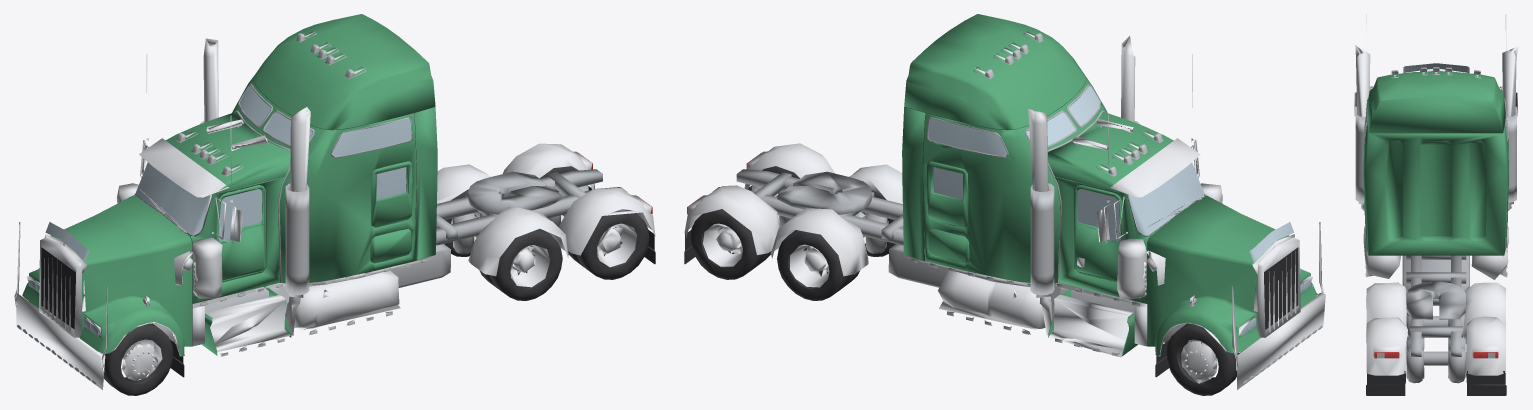
The model's file is archmodels55-16.glb.
3 renders of one model, left to right at view 1: azimuth 30°, elevation 25°; view 2: azimuth 150°, elevation 25°; view 3: azimuth 270°, elevation 25°, orthographic. The views are drawn at different scales.
Visible parts, largest first — view 1: Archmodels55_16_carpaint, Archmodels55_16_chrome, Archmodels55_16_frame, Archmodels55_16_tires, Archmodels55_16_glass, Archmodels55_16_glass2, Archmodels55_16_black, Archmodels55_16_exhaust_shield, Archmodels55_16_orange_light, Archmodels55_16_tinted_glass; view 2: Archmodels55_16_carpaint, Archmodels55_16_chrome, Archmodels55_16_frame, Archmodels55_16_tires, Archmodels55_16_glass, Archmodels55_16_glass2, Archmodels55_16_black, Archmodels55_16_exhaust_shield, Archmodels55_16_orange_light, Archmodels55_16_tinted_glass; view 3: Archmodels55_16_carpaint, Archmodels55_16_chrome, Archmodels55_16_frame, Archmodels55_16_black, Archmodels55_16_exhaust_shield, Archmodels55_16_tinted_glass, Archmodels55_16_taillights_red, Archmodels55_16_orange_light.
Part boxes in pixels (<box>): Archmodels55_16_carpaint: <box>22,14,437,356</box>; Archmodels55_16_chrome: <box>14,32,655,389</box>; Archmodels55_16_frame: <box>123,31,626,357</box>; Archmodels55_16_tires: <box>29,166,649,395</box>; Archmodels55_16_glass: <box>28,162,262,336</box>; Archmodels55_16_glass2: <box>239,85,411,199</box>; Archmodels55_16_black: <box>41,80,655,377</box>; Archmodels55_16_exhaust_shield: <box>200,121,309,295</box>; Archmodels55_16_orange_light: <box>17,33,428,384</box>; Archmodels55_16_tinted_glass: <box>45,222,89,261</box>; Archmodels55_16_carpaint: <box>902,14,1316,356</box>; Archmodels55_16_chrome: <box>684,32,1325,389</box>; Archmodels55_16_frame: <box>712,31,1260,358</box>; Archmodels55_16_tires: <box>690,166,1239,395</box>; Archmodels55_16_glass: <box>1077,162,1310,336</box>; Archmodels55_16_glass2: <box>928,85,1099,199</box>; Archmodels55_16_black: <box>684,78,1298,377</box>; Archmodels55_16_exhaust_shield: <box>1030,121,1139,295</box>; Archmodels55_16_orange_light: <box>911,33,1322,384</box>; Archmodels55_16_tinted_glass: <box>1249,222,1293,261</box>; Archmodels55_16_carpaint: <box>1363,71,1508,255</box>; Archmodels55_16_chrome: <box>1354,14,1518,377</box>; Archmodels55_16_frame: <box>1364,71,1508,383</box>; Archmodels55_16_black: <box>1366,371,1506,395</box>; Archmodels55_16_exhaust_shield: <box>1355,111,1516,202</box>; Archmodels55_16_tinted_glass: <box>1403,63,1469,73</box>; Archmodels55_16_taillights_red: <box>1374,352,1498,358</box>; Archmodels55_16_orange_light: <box>1366,67,1507,276</box>.
Bounding box in the file's own units: 9.57 × 4.23 × 2.91.
